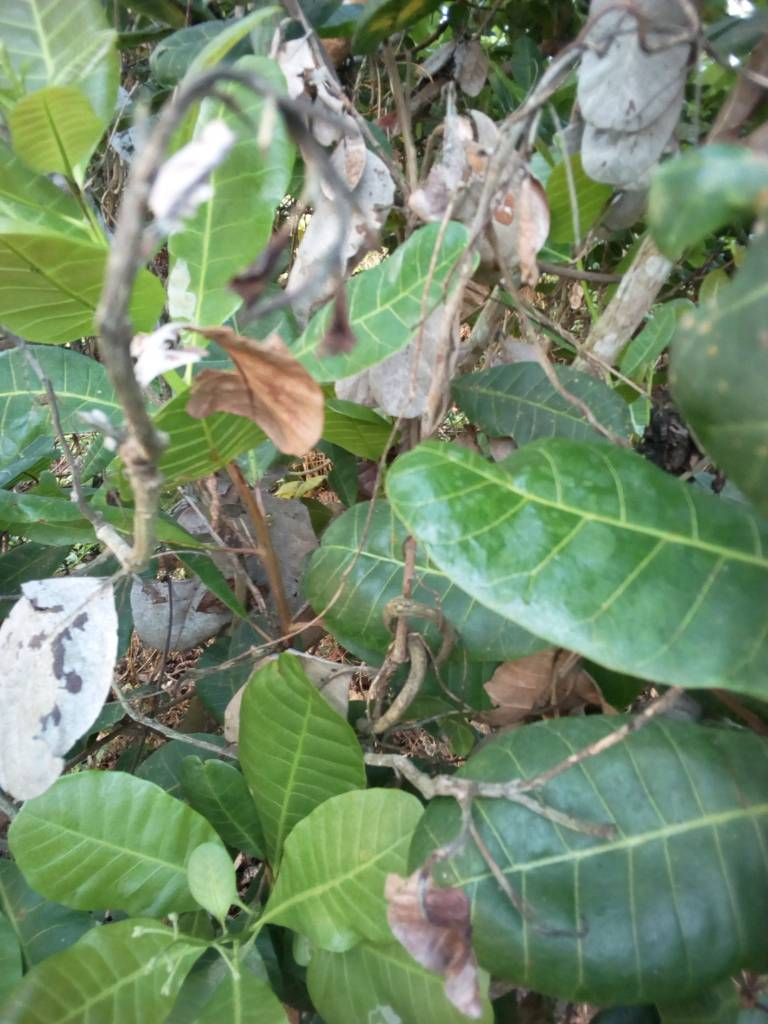Dessèchement des bourgeons: (470, 686, 714, 949), (262, 61, 387, 352), (566, 17, 715, 171), (633, 349, 699, 466)
